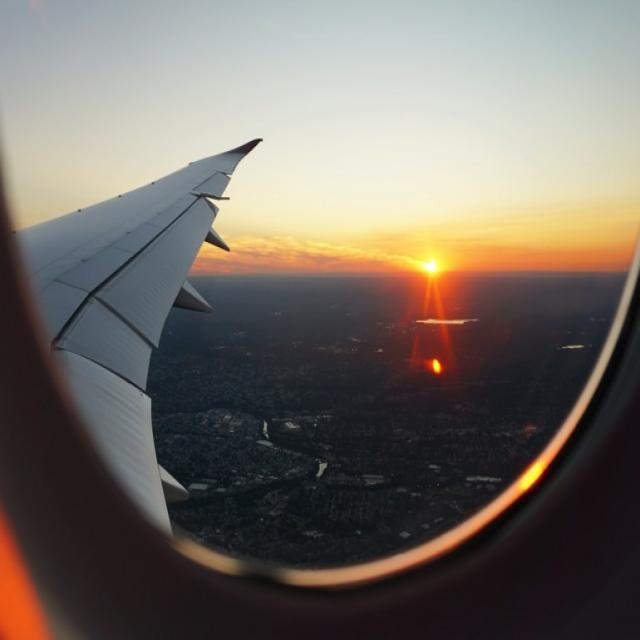aircraft: (2, 65, 309, 622)
